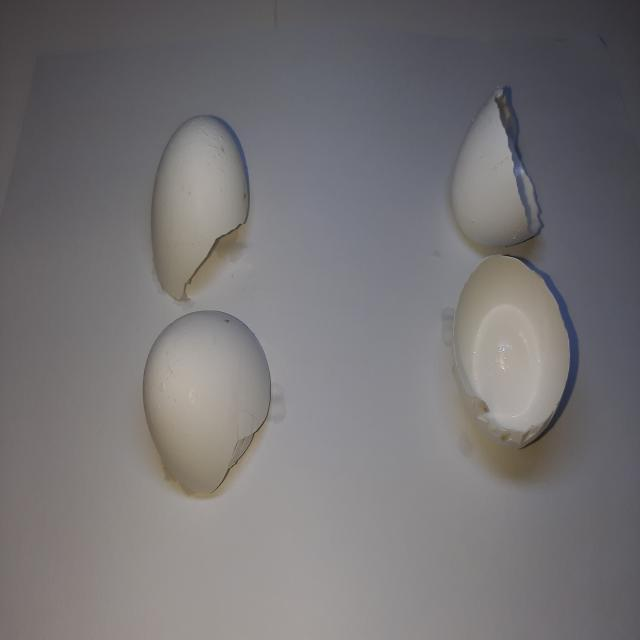egg shell: (138, 304, 276, 501), (449, 247, 574, 456), (146, 108, 254, 308), (448, 79, 544, 251)
